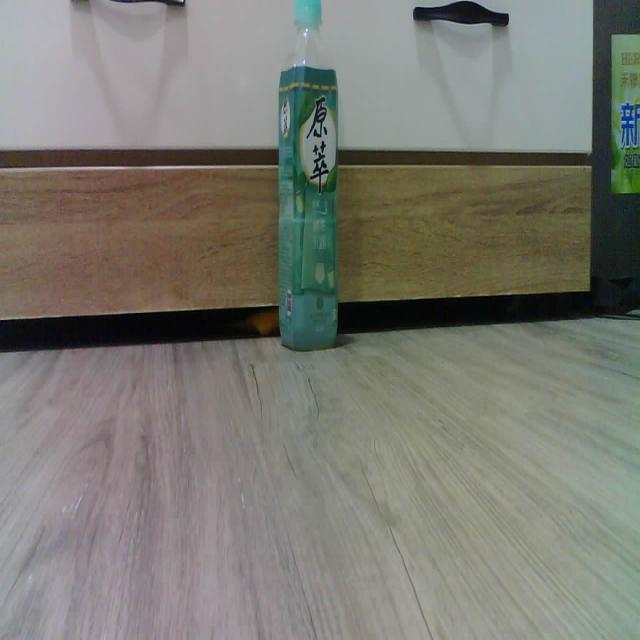bottle: (278, 0, 338, 349)
